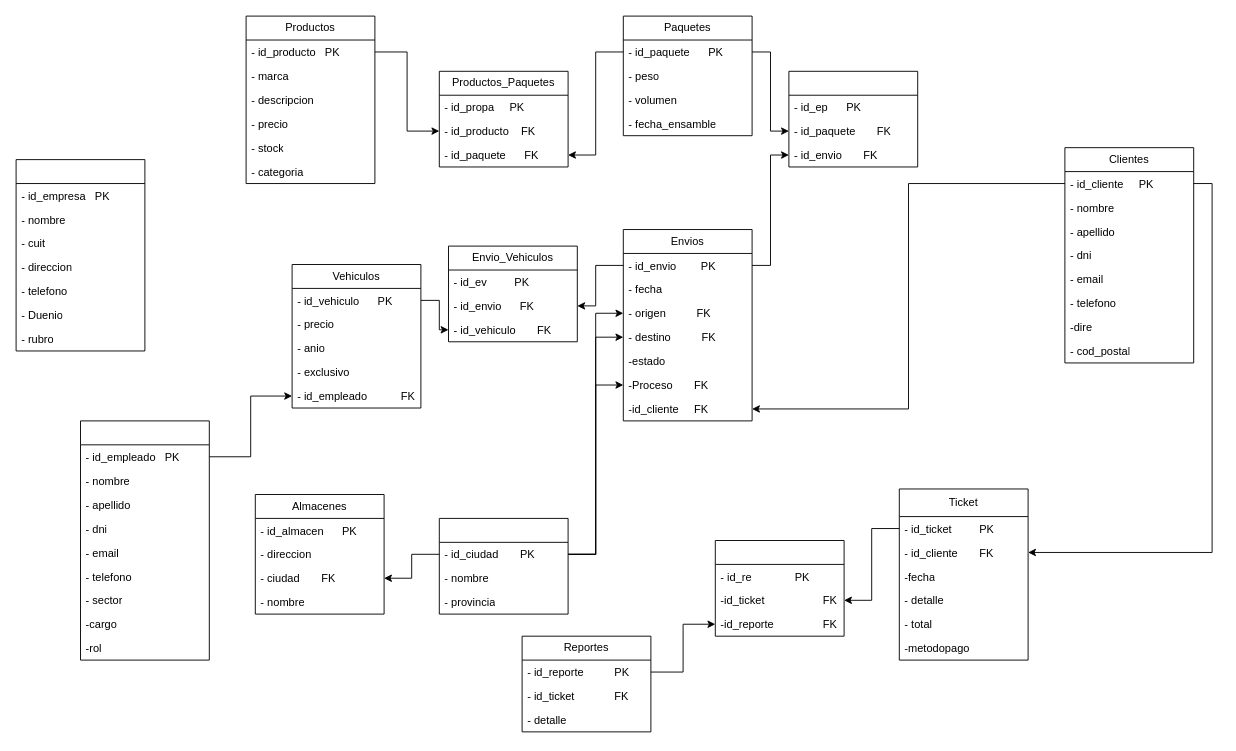
This 1236x751 diagram has some shape labels left out. Here are the shapes that lost their labels. From the top down, the box of each, then its label:
(788, 70, 918, 167): Envio_Paqutes
(15, 159, 145, 351): Empresa_Adherida
(80, 420, 209, 660): Empleados
(438, 518, 568, 614): Ciudades
(714, 540, 844, 636): Reportes_Tickets
